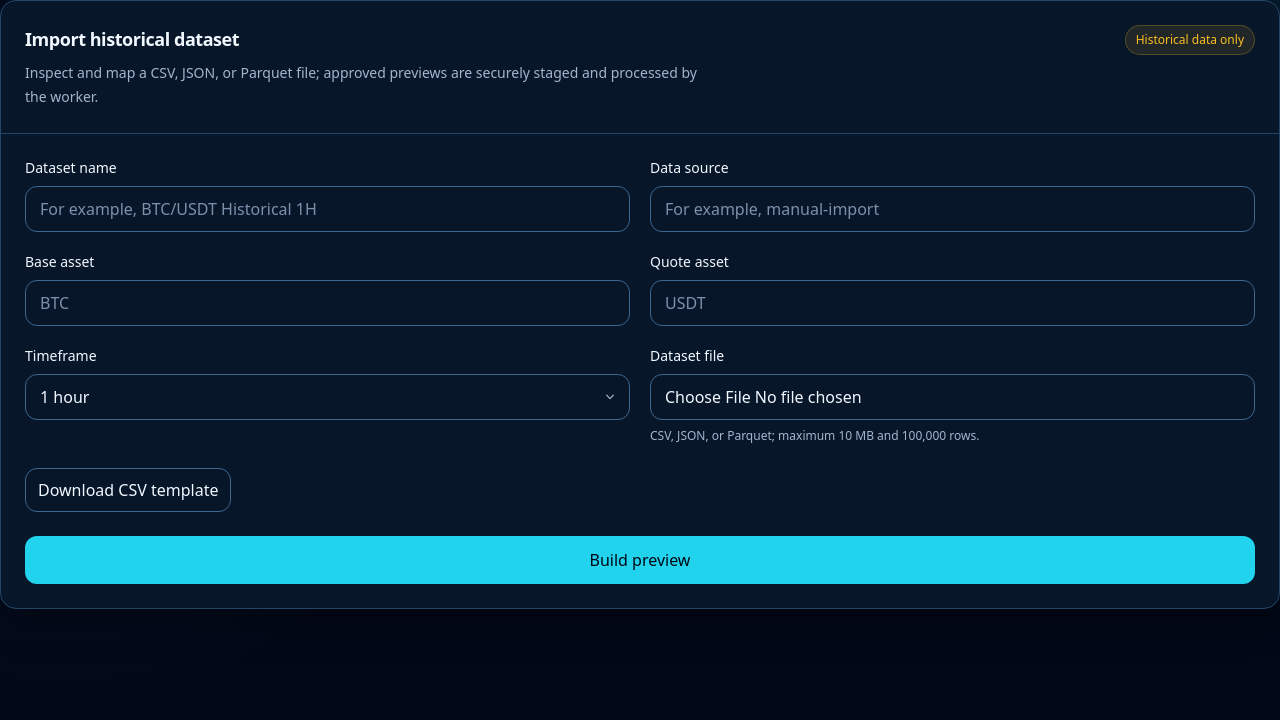
it: DatasetImportForm › validates required fields before previewing
Step 1. Click the button "Build preview" → (640, 560), box [25,536,1255,584]
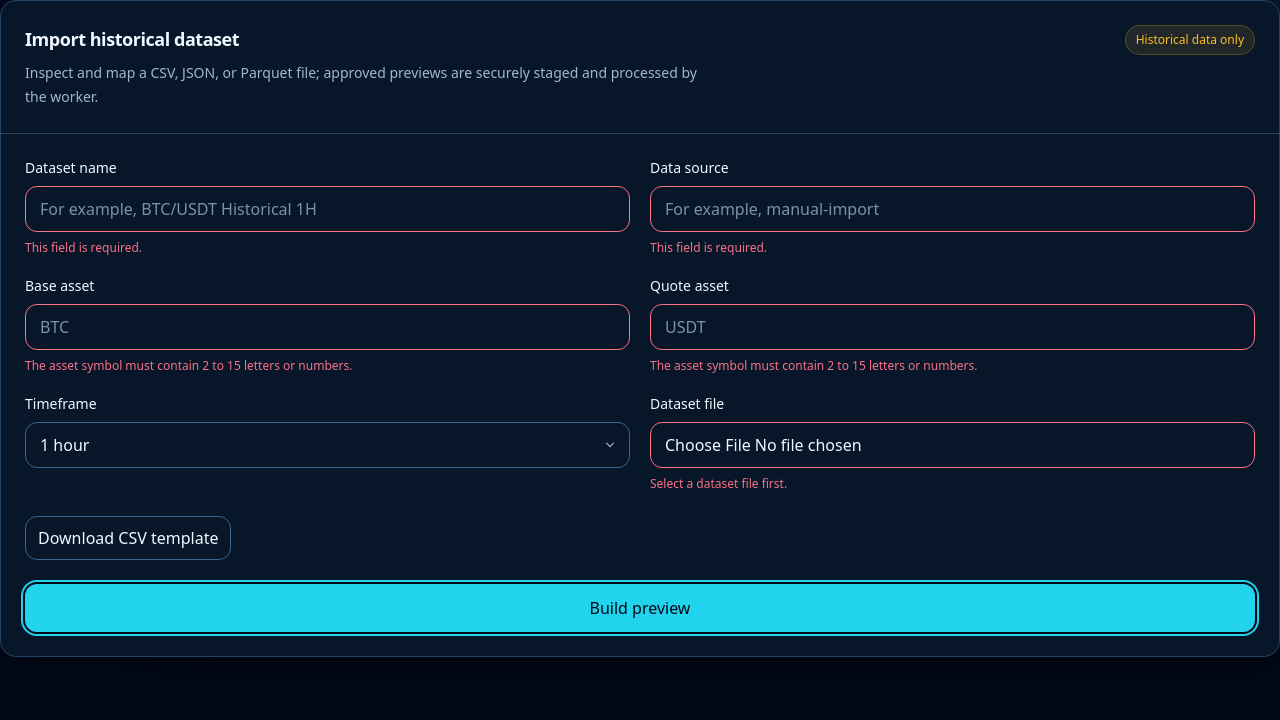
Result: the text "Select a dataset file first." is shown at [650,475,787,492]
